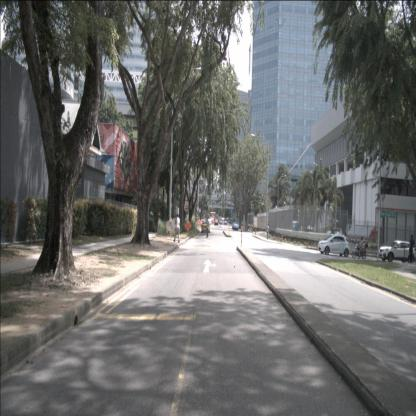human-pedestrian-adult: (173, 214, 180, 243), (409, 235, 414, 262), (204, 216, 210, 238), (266, 224, 270, 239)
vehicle-bus-rigid: (209, 212, 217, 223)
vehicle-car: (378, 240, 416, 263), (318, 234, 350, 257), (325, 227, 343, 238), (196, 219, 211, 228), (201, 221, 210, 233), (291, 221, 299, 231)
vehicle-motorcycle: (352, 236, 368, 260)
